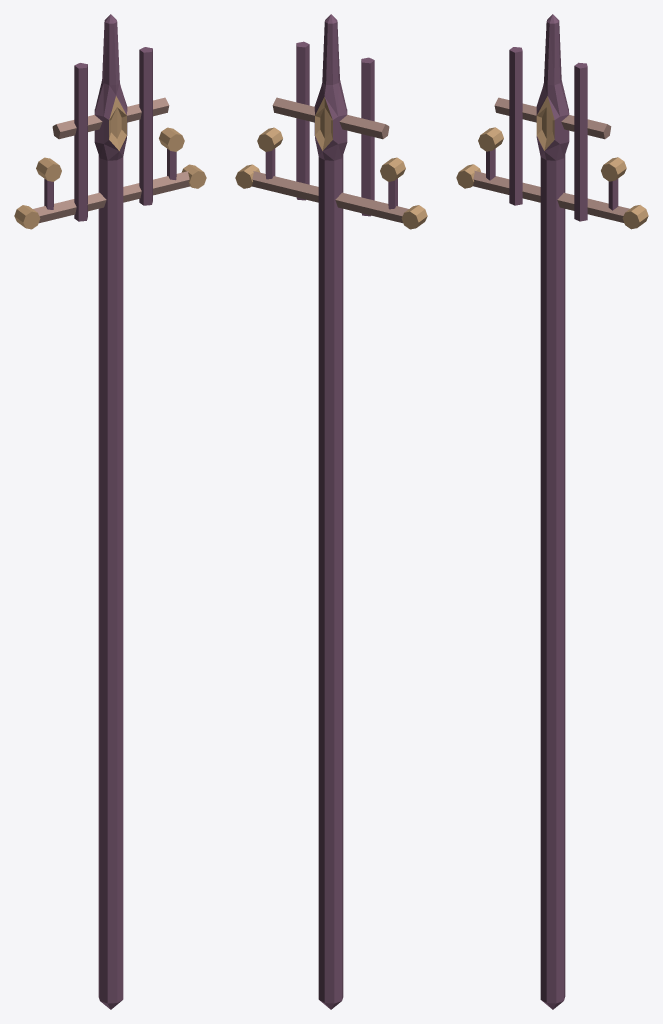
File: cane-16.glb
The picture shows the model from 3 angles, left to right: view 1: azimuth 30°, elevation 25°; view 2: azimuth 150°, elevation 25°; view 3: azimuth 330°, elevation 25°; orthographic projection.
Visible parts, largest first — view 1: cane_16; view 2: cane_16; view 3: cane_16.
Boxes of the visible parts, x1,y1,x2,y2 form: cane_16: (14, 14, 206, 1009); cane_16: (235, 14, 427, 1009); cane_16: (456, 14, 648, 1009).
Bounding box in the file's own units: 36.66 × 190 × 5.92.
Materials: 1 (1 with a texture image).
